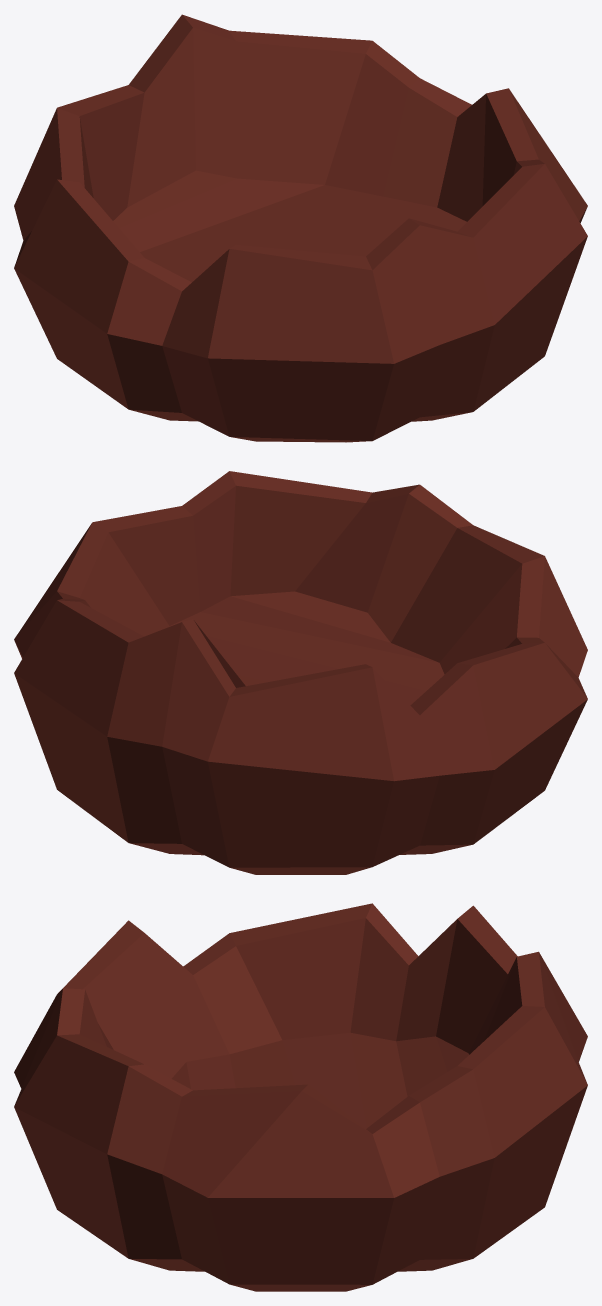
The model's file is BrokenPumpkin004.fbx.
3 renders of one model, top to bottom at view 1: azimuth 30°, elevation 25°; view 2: azimuth 150°, elevation 25°; view 3: azimuth 270°, elevation 25°, orthographic.
Visible parts, largest first — view 1: BrokenPumpkin004; view 2: BrokenPumpkin004; view 3: BrokenPumpkin004.
Part boxes in pixels (<box>): BrokenPumpkin004: <box>14,14,587,442</box>; BrokenPumpkin004: <box>14,471,587,874</box>; BrokenPumpkin004: <box>14,903,587,1291</box>.
Bounding box in the file's own units: 80.73 × 43.46 × 83.47.
